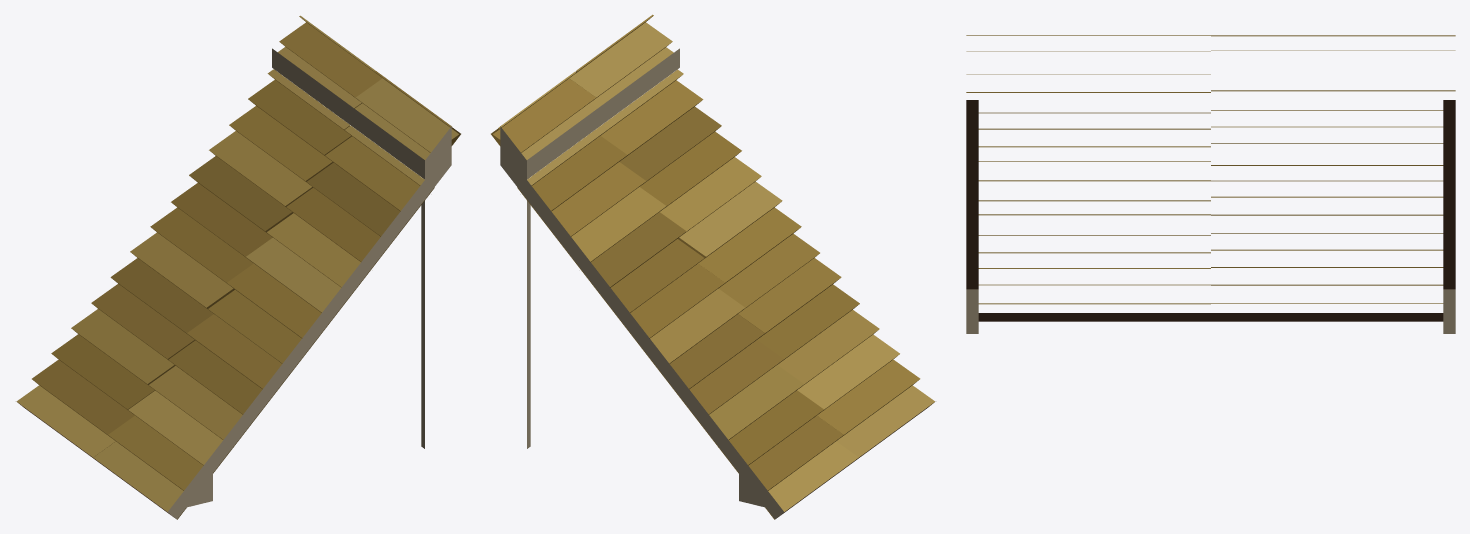
Rendered from roof-high-thatch.glb.
3 views of the same model, side by side, from view 1: azimuth 30°, elevation 25°; view 2: azimuth 150°, elevation 25°; view 3: azimuth 270°, elevation 25° (orthographic). The views are drawn at different scales.
Parts seen in each view (by area): view 1: roof-high-thatch; view 2: roof-high-thatch; view 3: roof-high-thatch.
Part boxes in pixels (box(x1,y1,x2,y2)): roof-high-thatch: box(16, 15, 460, 519); roof-high-thatch: box(491, 14, 935, 519); roof-high-thatch: box(966, 35, 1455, 333).
Bounding box in the file's own units: 1.11 × 1.18 × 1.
